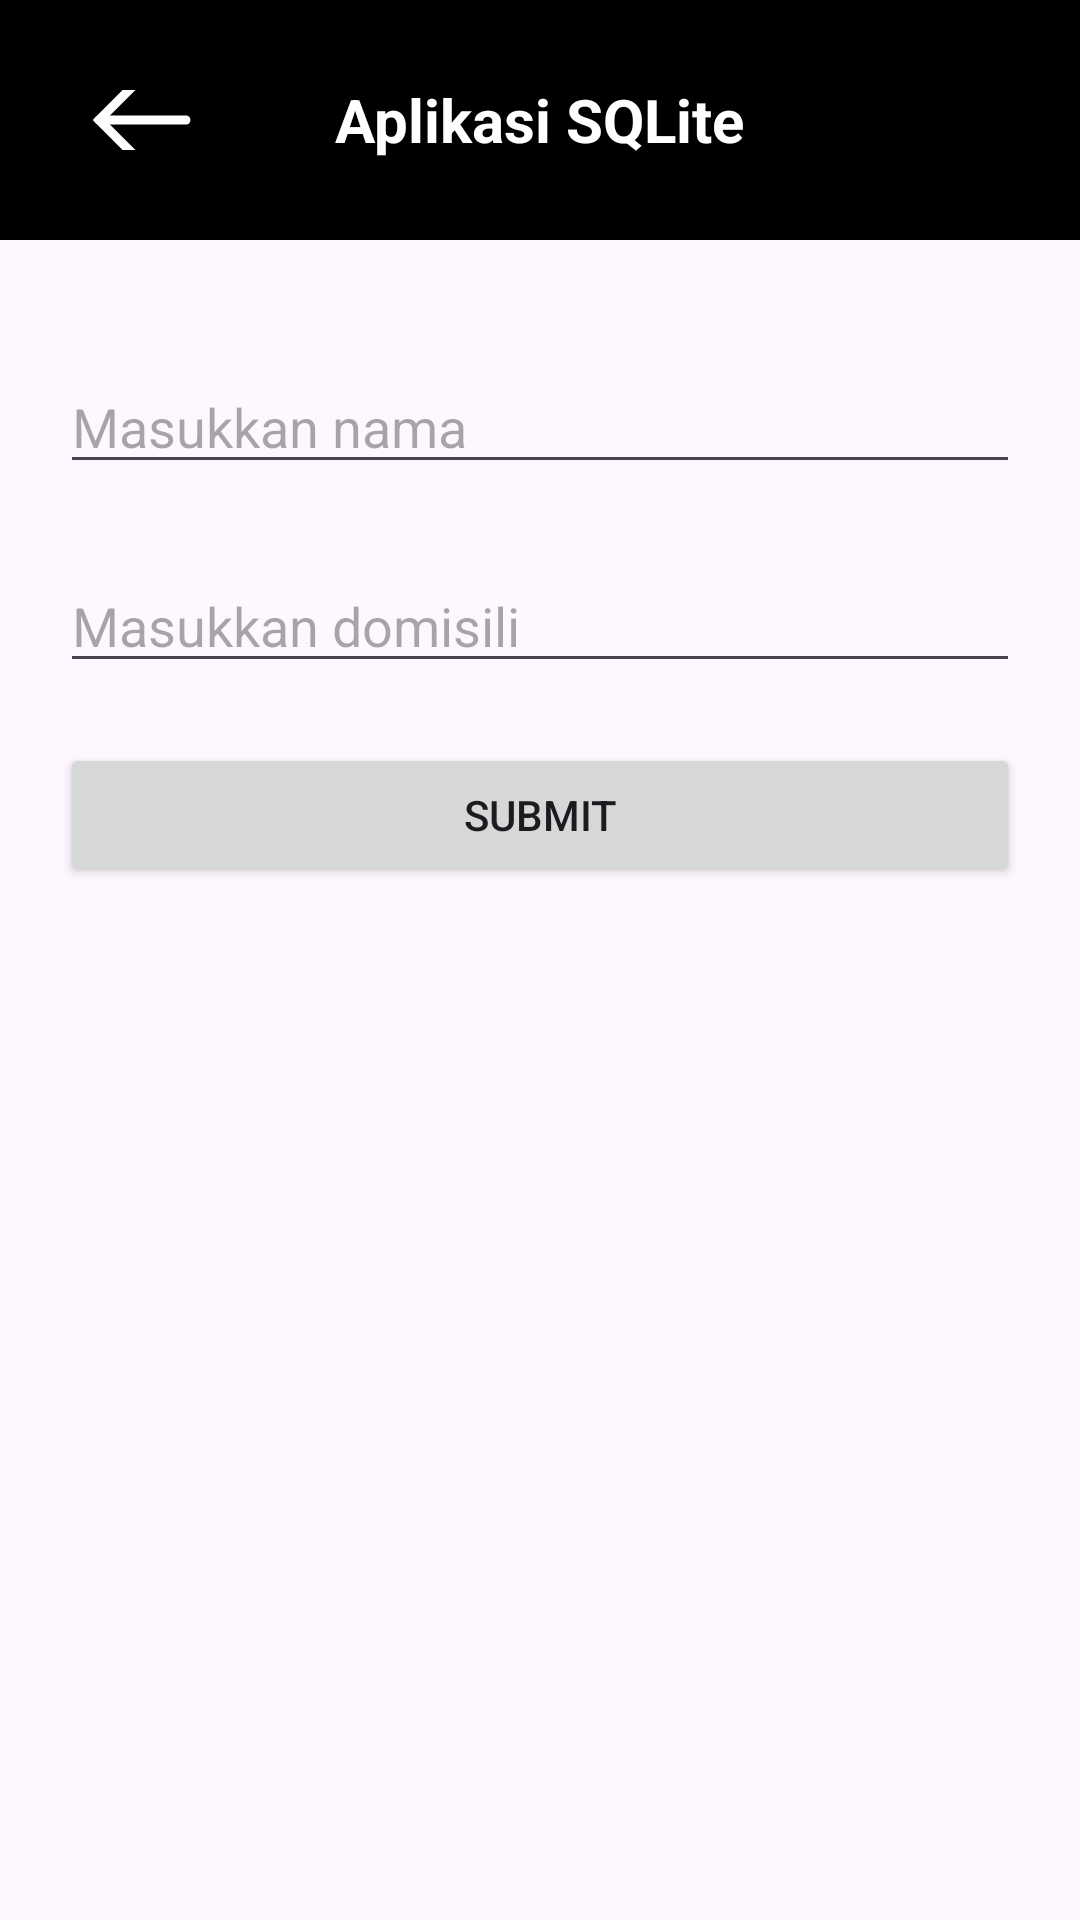

Locate icon controls on the screen. Image size 1080px x 1920px, boxes as (x1, y1, x2, y2).
back: (93, 90, 191, 150)
